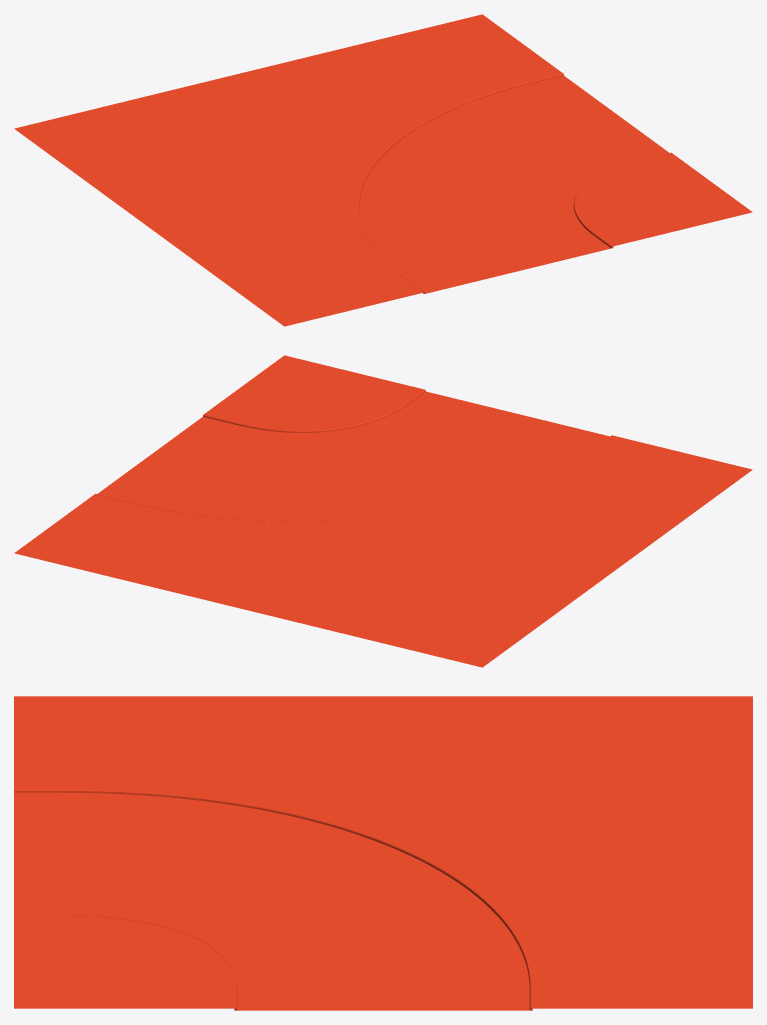
Rendered from SM_Mainroad_Turn_30x30_City.fbx.
The picture shows the model from 3 angles, top to bottom: view 1: azimuth 30°, elevation 25°; view 2: azimuth 150°, elevation 25°; view 3: azimuth 270°, elevation 25°; orthographic projection. The views are drawn at different scales.
Parts seen in each view (by area): view 1: SM_Mainroad_Turn_30x30_City; view 2: SM_Mainroad_Turn_30x30_City; view 3: SM_Mainroad_Turn_30x30_City.
Boxes of the visible parts, <box> form: SM_Mainroad_Turn_30x30_City: <box>14,14,752,326</box>; SM_Mainroad_Turn_30x30_City: <box>14,355,752,667</box>; SM_Mainroad_Turn_30x30_City: <box>14,696,752,1010</box>.
Size of the model in its own units: 30 by 0.1084 by 30.
